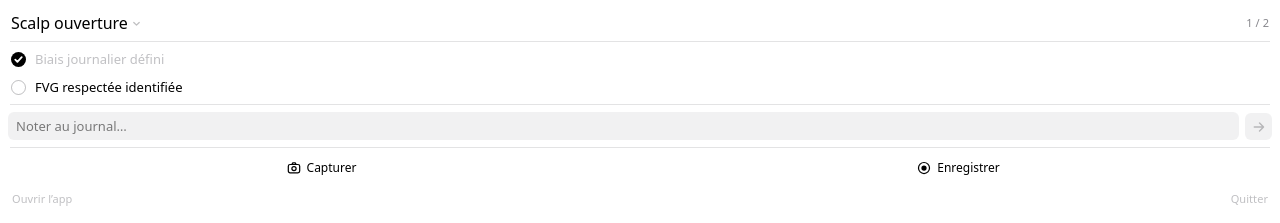
popover de la barre d'état › coche sans attendre la coquille, et ne fait qu'émettre
Click the button "FVG respectée identifiée": {"x": 109, "y": 87} 5,73 -> 1275,101
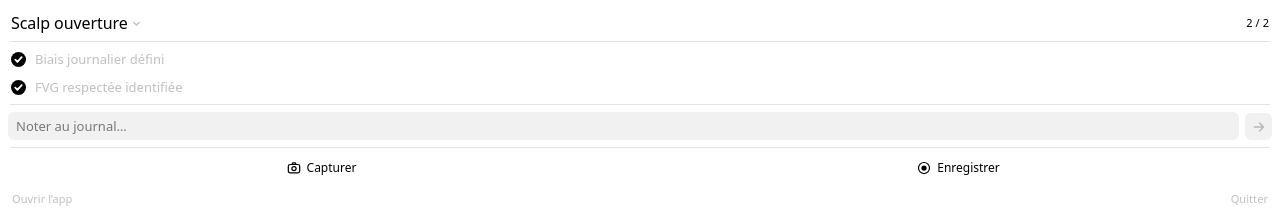
Expected: the text "2 / 2" is shown, 1246,16 -> 1269,30
